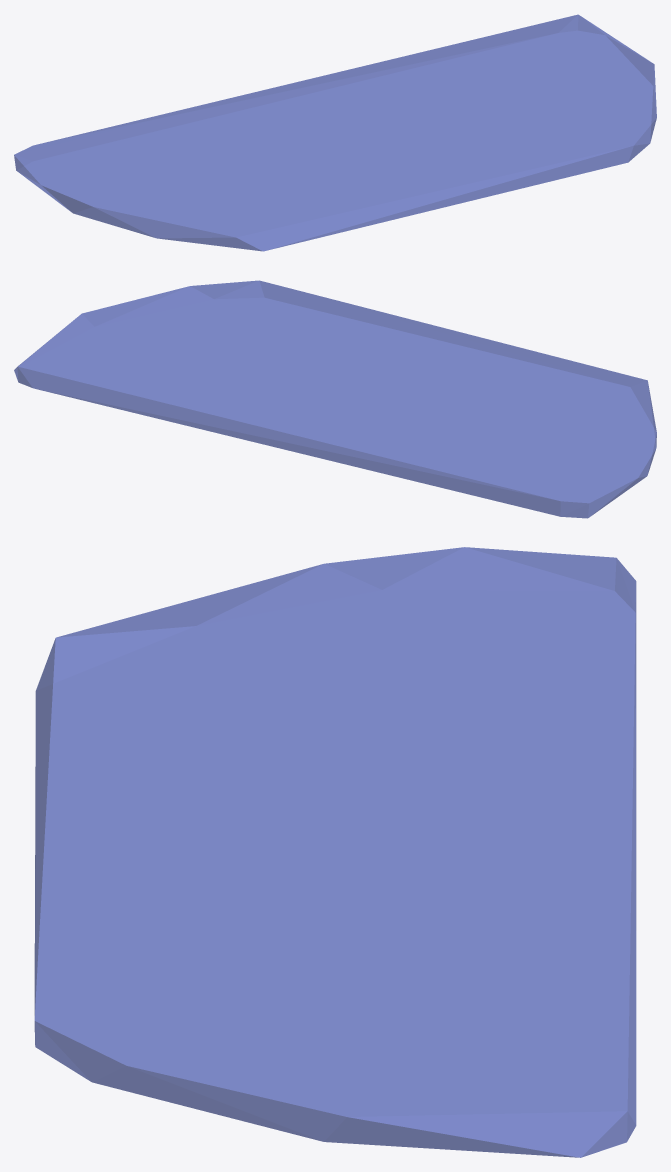
The picture shows the model from 3 angles, top to bottom: view 1: azimuth 30°, elevation 25°; view 2: azimuth 150°, elevation 25°; view 3: azimuth 270°, elevation 25°; orthographic projection. The views are drawn at different scales.
Parts seen in each view (by area): view 1: Shape_IndexedFaceSet.049_Shape_IndexedFaceSet.11127; view 2: Shape_IndexedFaceSet.049_Shape_IndexedFaceSet.11127; view 3: Shape_IndexedFaceSet.049_Shape_IndexedFaceSet.11127.
Part boxes in pixels (x1,y1,x2,y2): Shape_IndexedFaceSet.049_Shape_IndexedFaceSet.11127: (14, 14, 656, 251); Shape_IndexedFaceSet.049_Shape_IndexedFaceSet.11127: (14, 280, 656, 518); Shape_IndexedFaceSet.049_Shape_IndexedFaceSet.11127: (34, 547, 636, 1157).
Bounding box in the file's own units: 0.8145 × 0.0209 × 0.3579.
